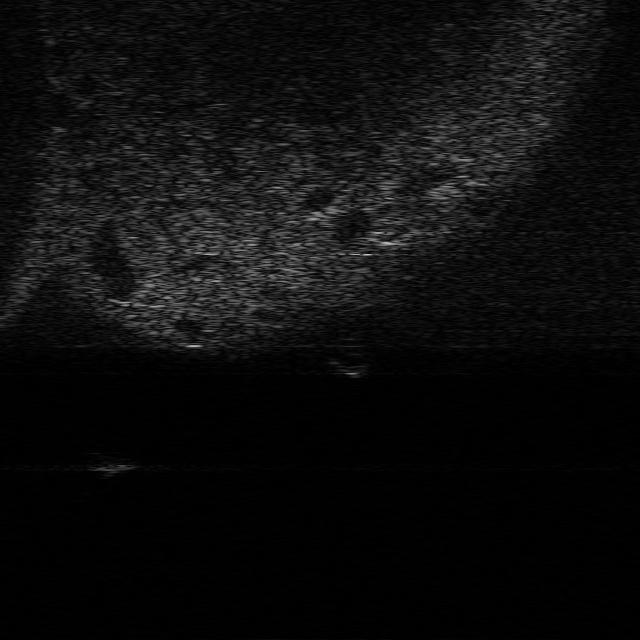ball: (330, 346, 370, 376)
cube: (89, 450, 138, 474)
